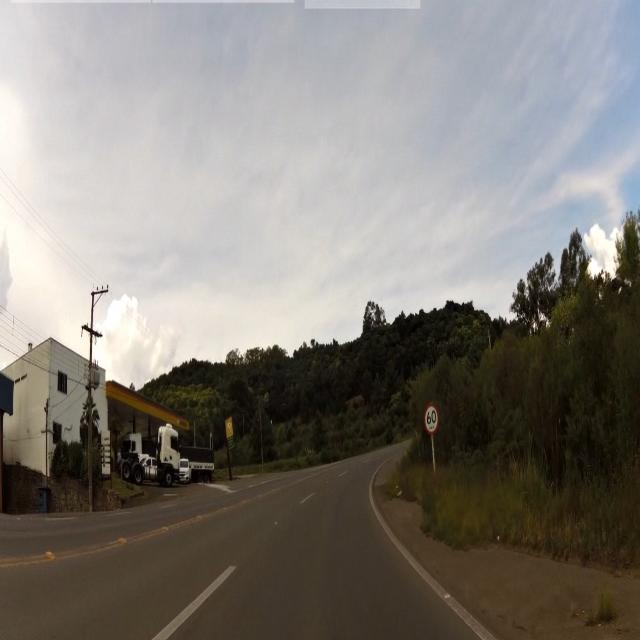R-19: (422, 404, 443, 436)
